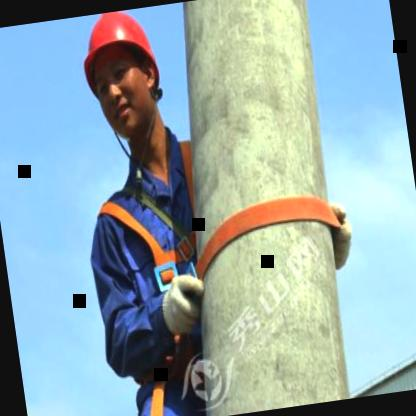helmet: (65, 4, 181, 172)
